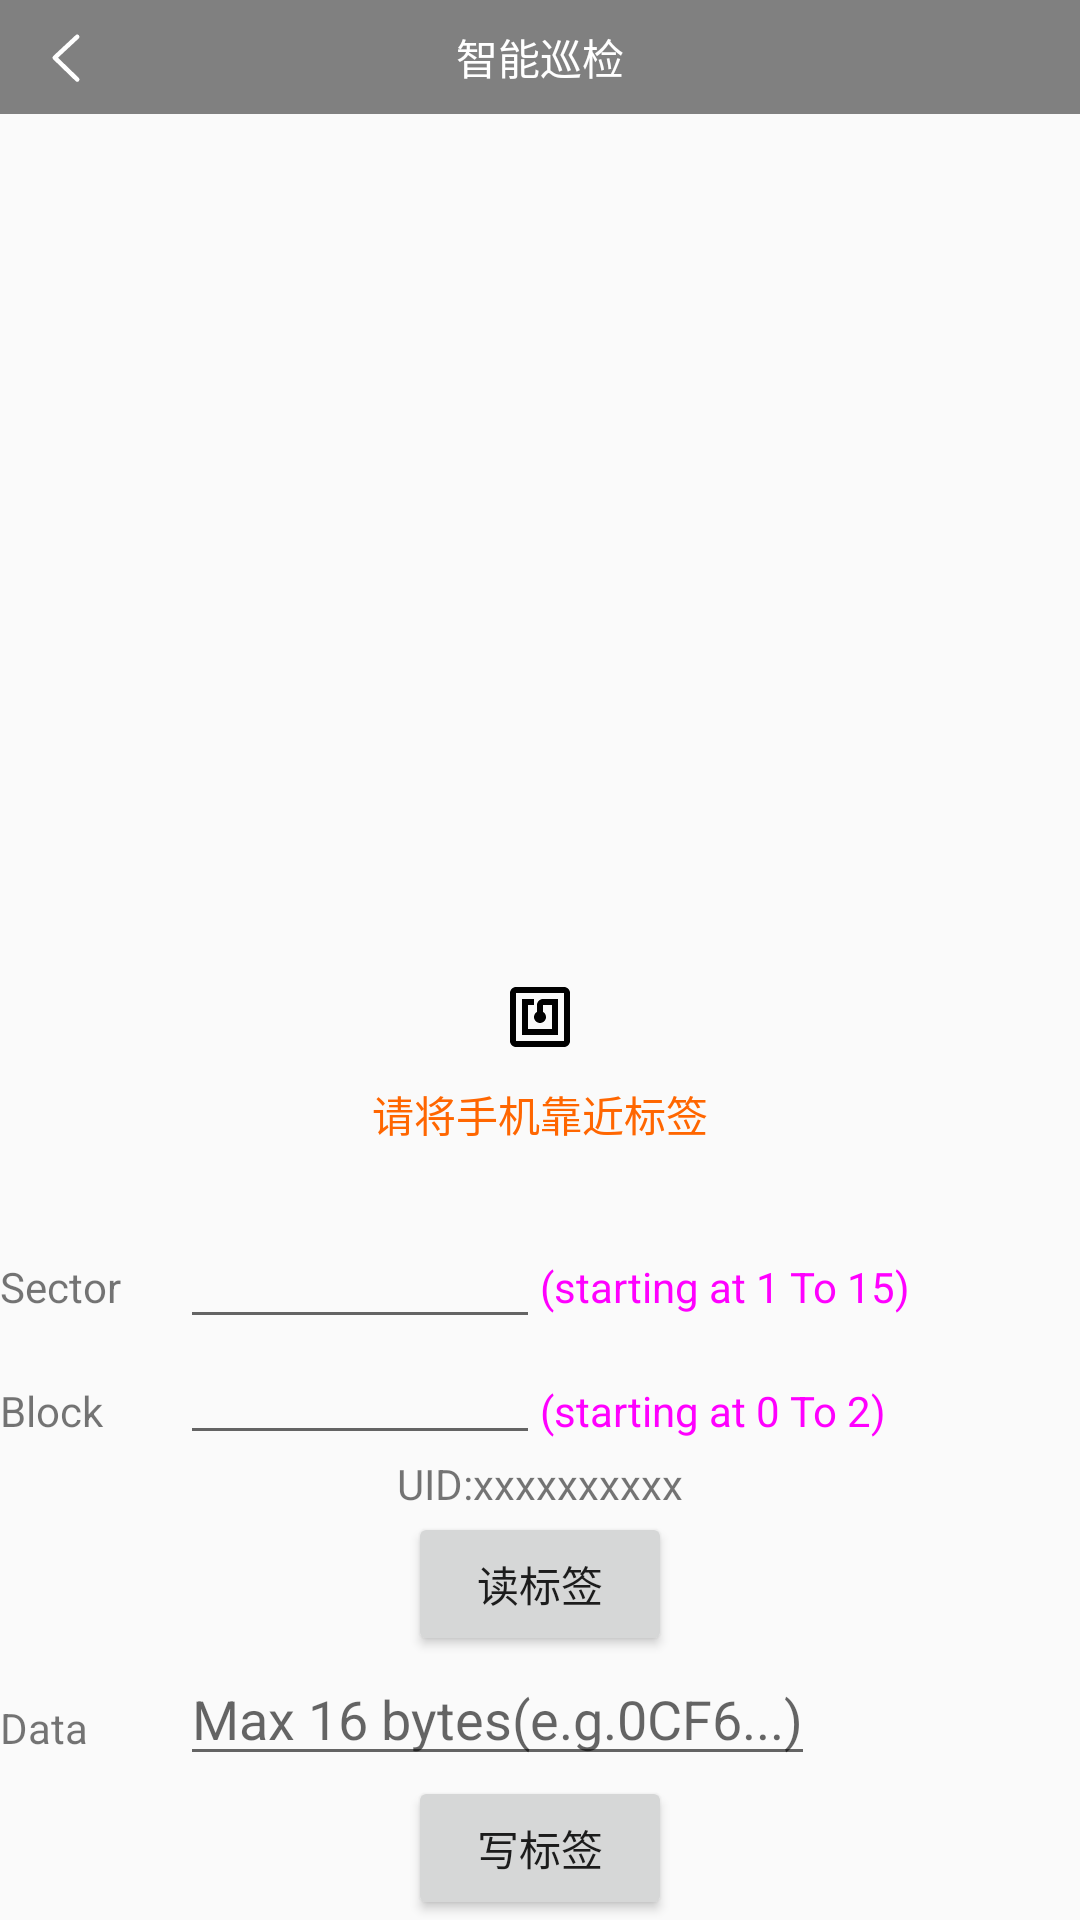

Icons on this 1080px×1920px Android screen, each with its box as region(x1, y1, x2, y2):
return imageview: region(52, 34, 80, 82)
